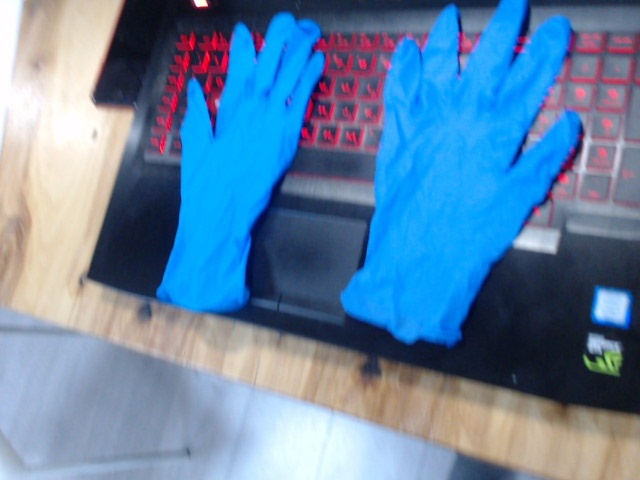medical_glove: (339, 3, 583, 346), (156, 13, 323, 310)
